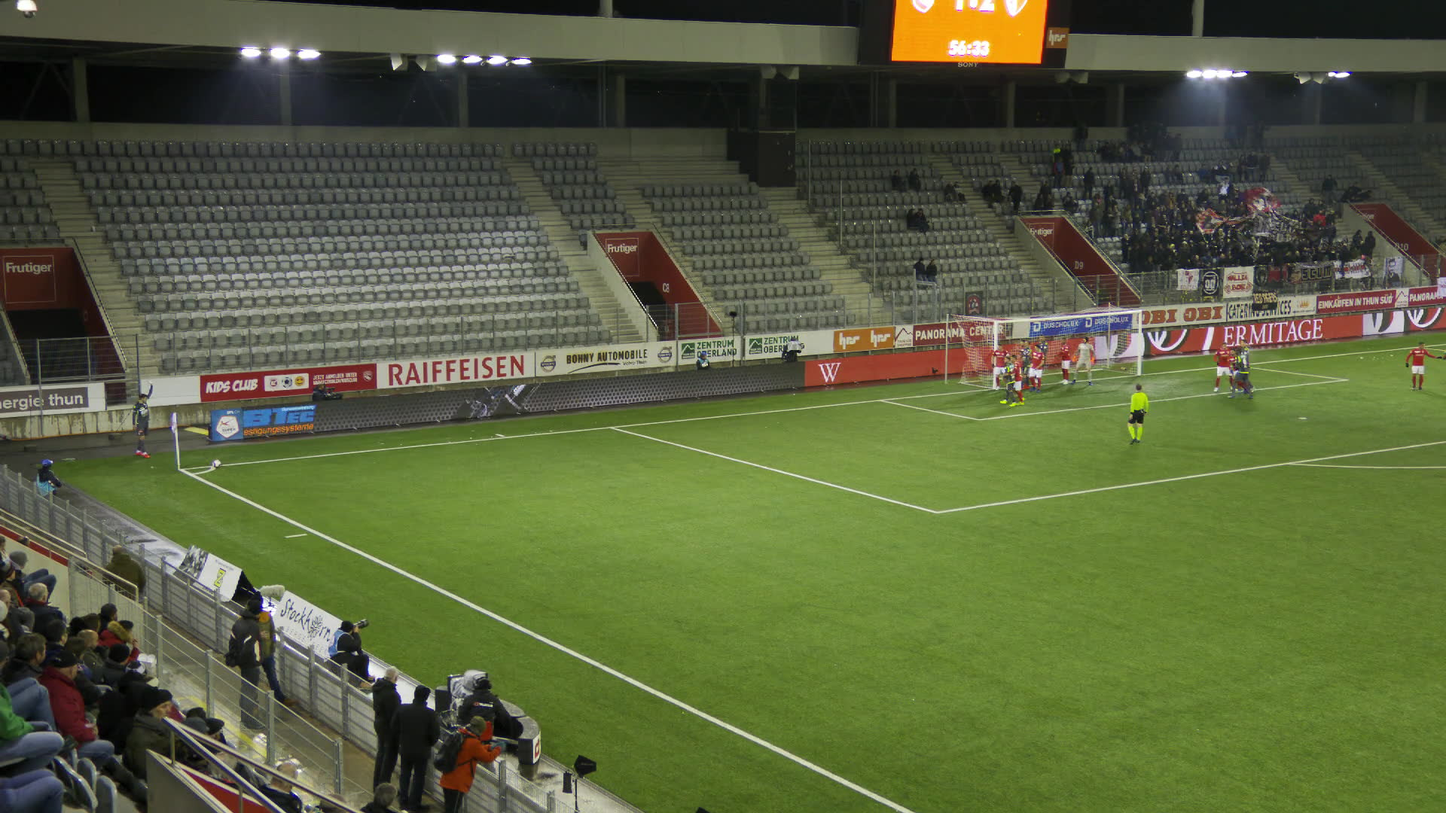ball: (211, 458, 221, 467)
goalkeeper: (1067, 334, 1096, 385)
player: (129, 378, 156, 459), (1402, 340, 1444, 392), (1228, 344, 1258, 400), (1211, 338, 1238, 392), (1230, 345, 1255, 399), (1006, 352, 1029, 407), (989, 341, 1011, 391), (1234, 337, 1252, 394), (999, 355, 1018, 407), (1025, 343, 1045, 392), (1053, 336, 1071, 385), (1033, 333, 1049, 385), (1011, 349, 1030, 391), (1020, 338, 1033, 389), (1434, 350, 1445, 364)
referee: (1124, 382, 1149, 446)
